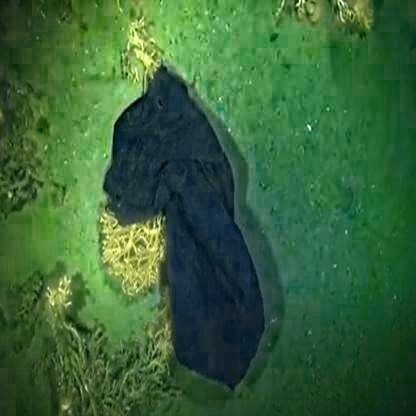plastic: (115, 81, 260, 398)
